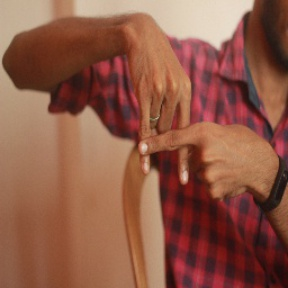H: (127, 63, 227, 206)
